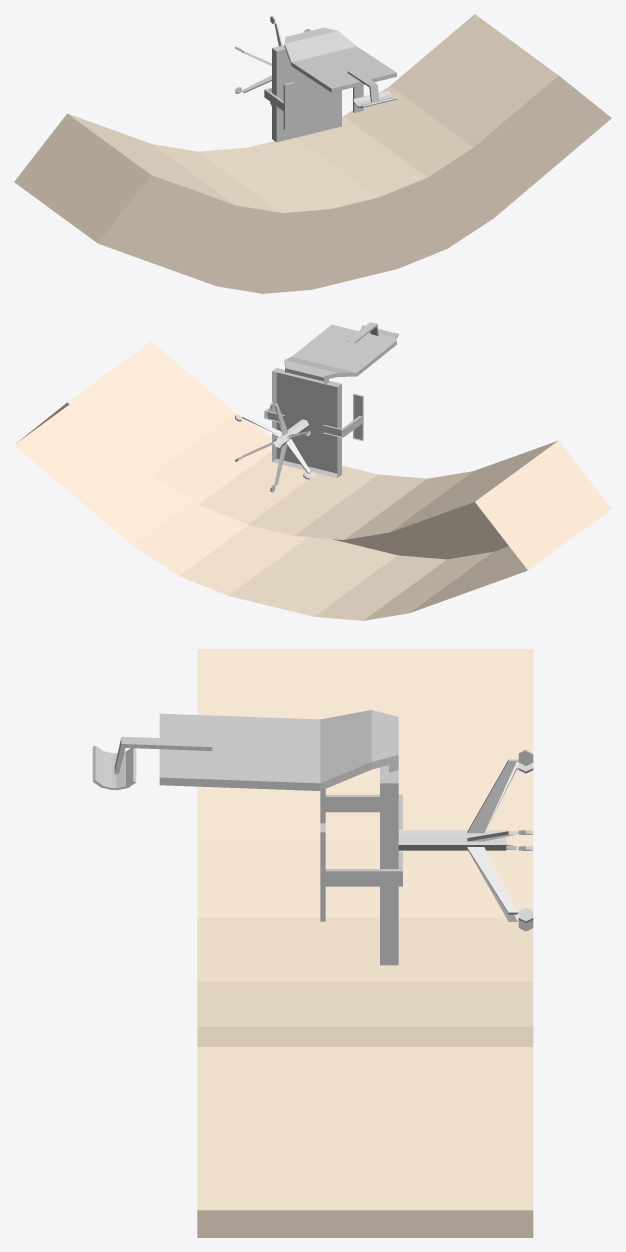
3 renders of one model, top to bottom at view 1: azimuth 30°, elevation 25°; view 2: azimuth 150°, elevation 25°; view 3: azimuth 270°, elevation 25°, orthographic. The views are drawn at different scales.
Visible parts, largest first — view 1: Cylinder001, 对象022; view 2: Cylinder001, 对象022; view 3: Cylinder001, 对象022.
Part boxes in pixels (x1,y1,x2,y2): Cylinder001: [14, 14, 611, 293]; 对象022: [235, 16, 398, 142]; Cylinder001: [14, 341, 611, 620]; 对象022: [235, 322, 398, 492]; Cylinder001: [197, 649, 533, 1237]; 对象022: [92, 710, 533, 965].
Bounding box in the file's own units: 3.54 × 1.38 × 1.31.
